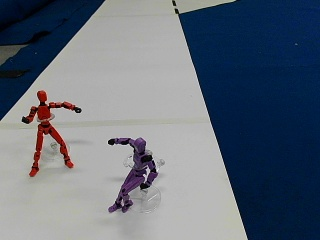pedestrian: (22, 91, 82, 177), (108, 138, 158, 212)
